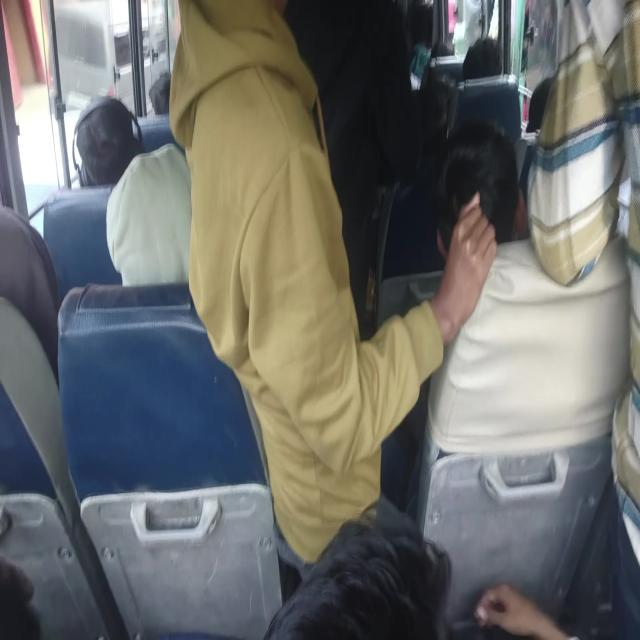person: (536, 0, 640, 589), (89, 149, 293, 369), (263, 514, 445, 635), (167, 2, 311, 145), (0, 200, 62, 393), (69, 91, 147, 210), (42, 188, 119, 307), (453, 79, 523, 143), (0, 552, 41, 638), (418, 71, 451, 153), (461, 36, 503, 84), (412, 2, 436, 54), (429, 53, 465, 82), (148, 72, 171, 117), (394, 0, 412, 52), (430, 41, 454, 61)
